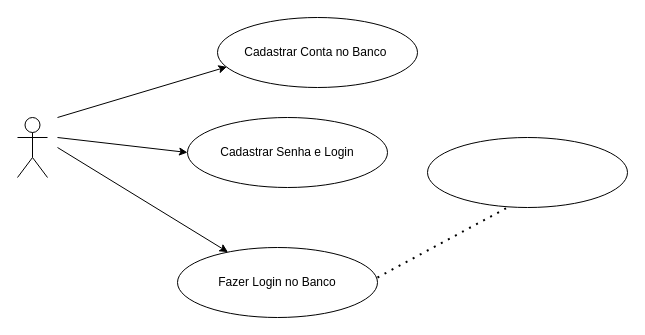
Image size: 645x335. Some labels were removed from this diagram. The shapes that lost their labels are listed below. From the top down, each one's box as (x1, y1, x2, y2) in pixels, then its label:
(16, 116, 48, 178): Actor
(426, 136, 628, 208): Verifica se a senha e o nome está correto
